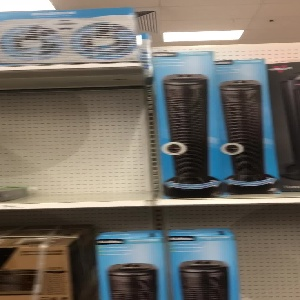void: (23, 70, 151, 198), (233, 203, 298, 300)
